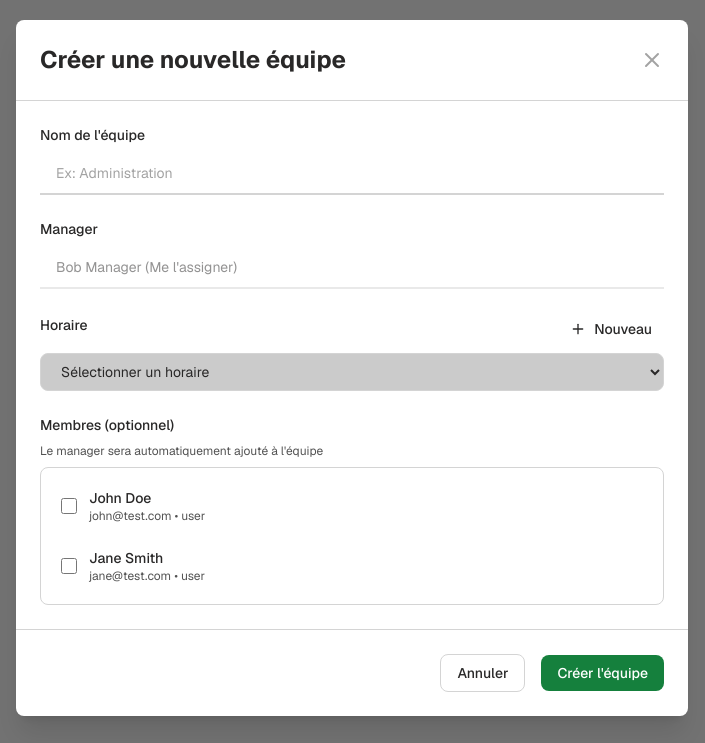
AddTeamModal › should show validation error when submitting without team name
Click the button "Créer l'équipe" at [603, 673], box [541,655,664,691]
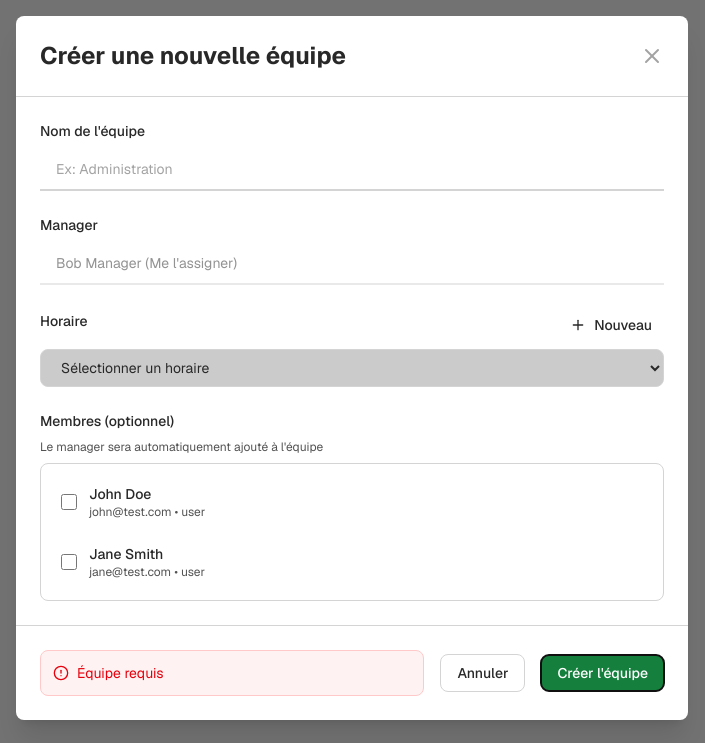
Expected: the text "Équipe requis" is shown, [77,664,164,682]
